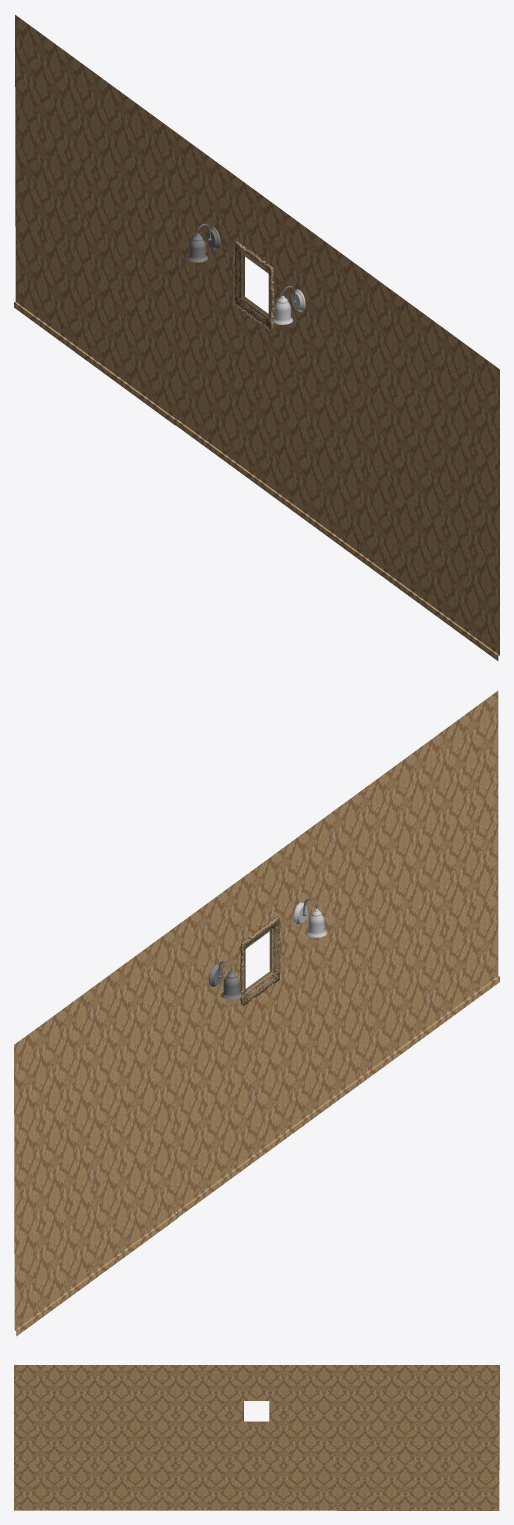
File: picture frame room_001.fbx
The picture shows the model from 3 angles, top to bottom: view 1: azimuth 30°, elevation 25°; view 2: azimuth 150°, elevation 25°; view 3: azimuth 270°, elevation 25°; orthographic projection. The views are drawn at different scales.
Parts seen in each view (by area): view 1: pPlane005, pPlane004, pPlane3, PictureFrame1; view 2: pPlane005, pPlane004, pPlane3, PictureFrame1; view 3: pPlane005, pPlane004, pPlane3.
Boxes of the visible parts, bbox=[...] form: pPlane005: bbox=[14, 15, 176, 425]; pPlane004: bbox=[337, 252, 499, 660]; pPlane3: bbox=[175, 133, 338, 542]; PictureFrame1: bbox=[233, 241, 274, 330]; pPlane005: bbox=[14, 927, 177, 1336]; pPlane004: bbox=[337, 691, 499, 1099]; pPlane3: bbox=[175, 808, 338, 1217]; PictureFrame1: bbox=[240, 916, 280, 1005]; pPlane005: bbox=[337, 1365, 499, 1510]; pPlane004: bbox=[14, 1365, 175, 1510]; pPlane3: bbox=[175, 1365, 337, 1510].
Size of the model in its own units: 19.38 by 200 by 603.
